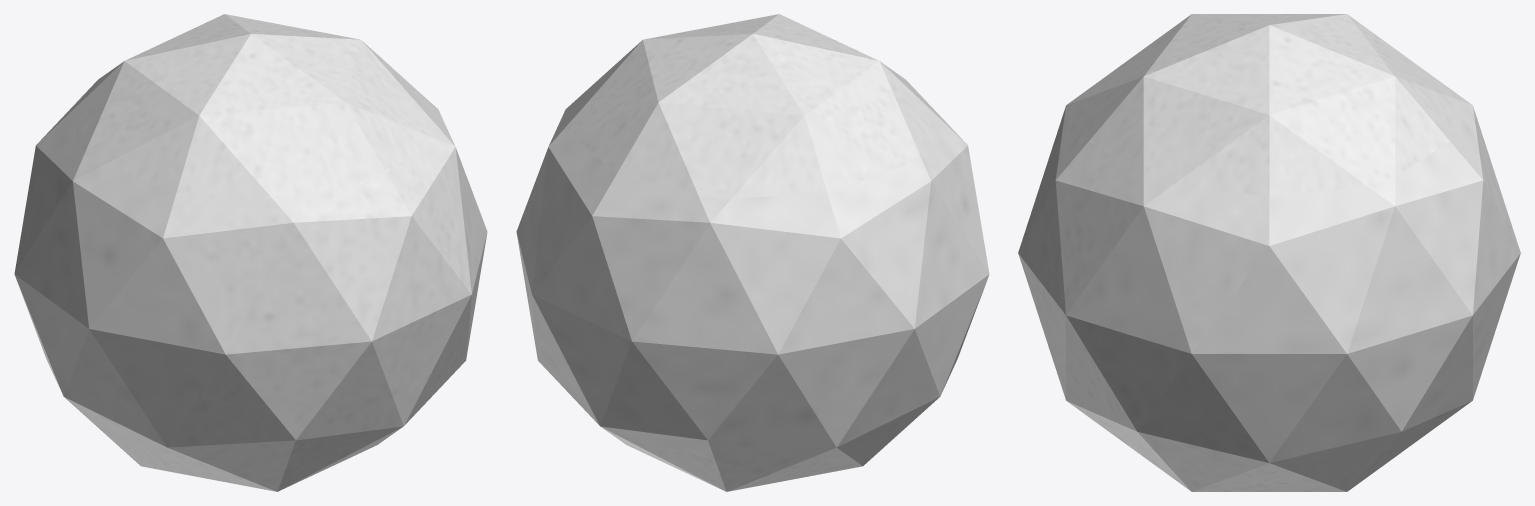
File: pool_ball_cue.obj
The picture shows the model from 3 angles, left to right: view 1: azimuth 30°, elevation 25°; view 2: azimuth 150°, elevation 25°; view 3: azimuth 270°, elevation 25°; orthographic projection. The views are drawn at different scales.
Parts seen in each view (by area): view 1: CueBall; view 2: CueBall; view 3: CueBall.
Boxes of the visible parts, x1,y1,x2,y2 form: CueBall: (14, 14, 487, 491); CueBall: (516, 14, 989, 491); CueBall: (1018, 14, 1520, 491).
Bounding box in the file's own units: 0.0709 × 0.0745 × 0.0745.
1 material, 1 textured.
